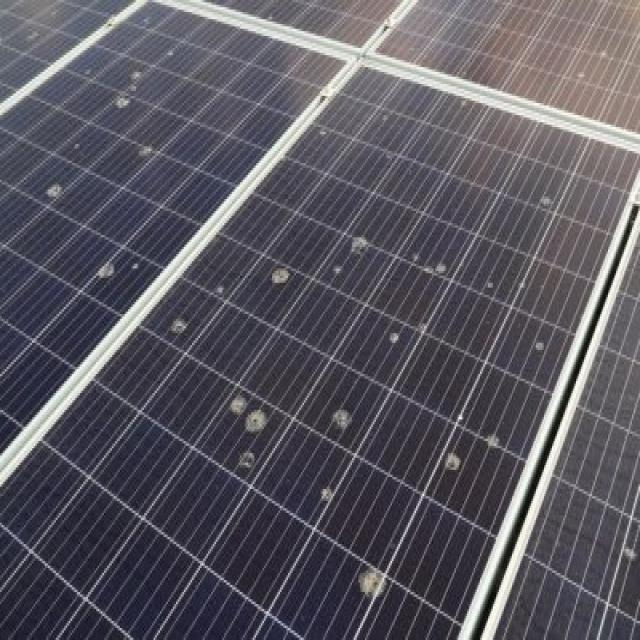faulty: (0, 70, 638, 640), (0, 3, 346, 455)
